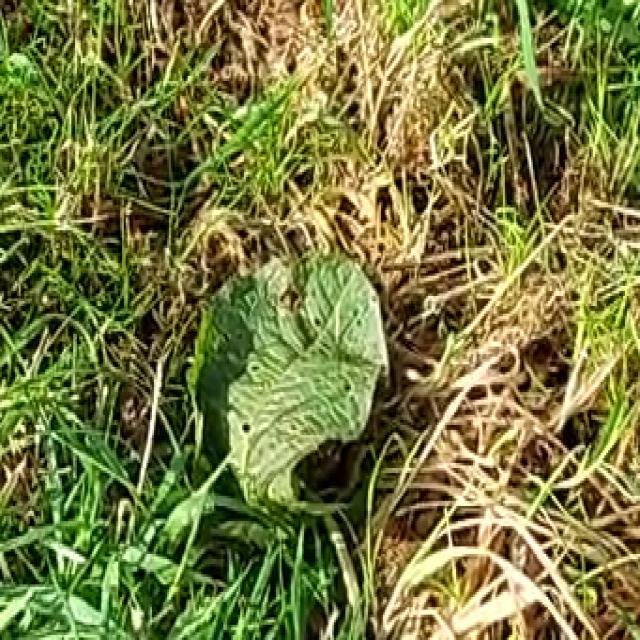organic waste: (141, 177, 437, 592)
